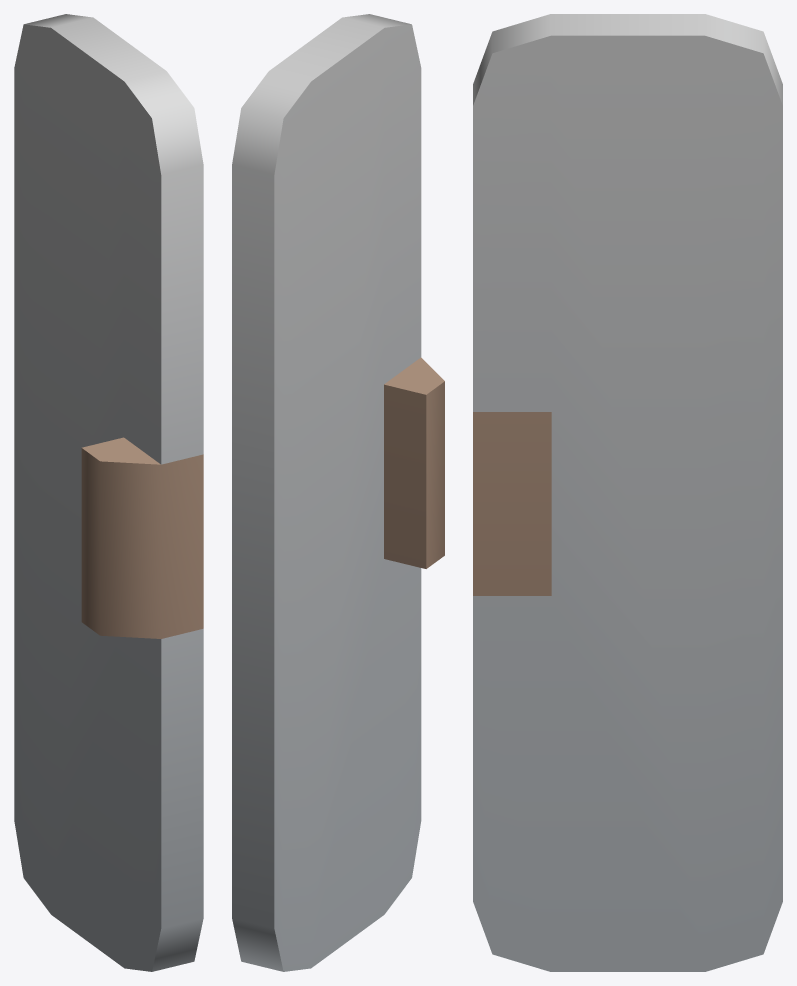
Rendered from (%no-merge) (%open-left) 9.glb.
3 renders of one model, left to right at view 1: azimuth 30°, elevation 25°; view 2: azimuth 150°, elevation 25°; view 3: azimuth 270°, elevation 25°, orthographic. The views are drawn at different scales.
Parts seen in each view (by area): view 1: (%no-merge) (%open-left) 9(Clone); view 2: (%no-merge) (%open-left) 9(Clone); view 3: (%no-merge) (%open-left) 9(Clone).
Part boxes in pixels (box(x1,y1,x2,y2)): (%no-merge) (%open-left) 9(Clone): box(14, 14, 203, 971); (%no-merge) (%open-left) 9(Clone): box(232, 14, 444, 971); (%no-merge) (%open-left) 9(Clone): box(473, 14, 782, 971).
Bounding box in the file's own units: 0.05 × 0.5 × 0.15.
